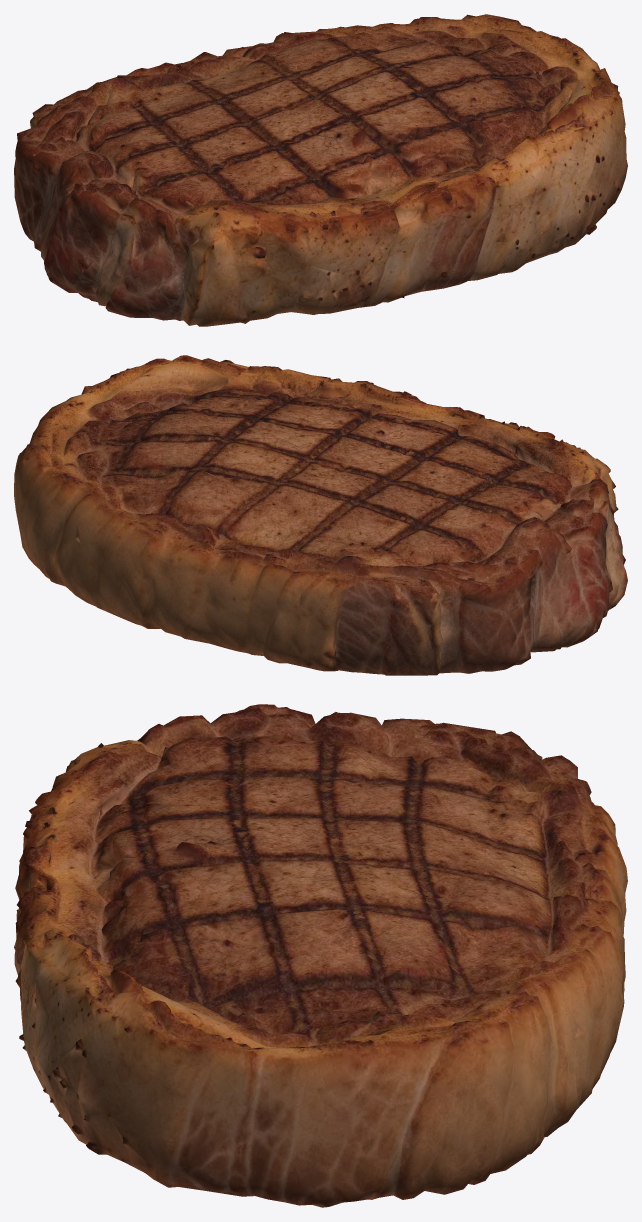
The model's file is food-steak.glb.
3 views of the same model, one above another, from view 1: azimuth 30°, elevation 25°; view 2: azimuth 150°, elevation 25°; view 3: azimuth 270°, elevation 25° (orthographic). The views are drawn at different scales.
Parts seen in each view (by area): view 1: Model; view 2: Model; view 3: Model.
Boxes of the visible parts, bbox=[...] form: Model: bbox=[14, 14, 627, 326]; Model: bbox=[14, 355, 627, 675]; Model: bbox=[14, 704, 627, 1207].
Bounding box in the file's own units: 1.9 × 0.4387 × 1.31.
Materials: 1 (1 with a texture image).
